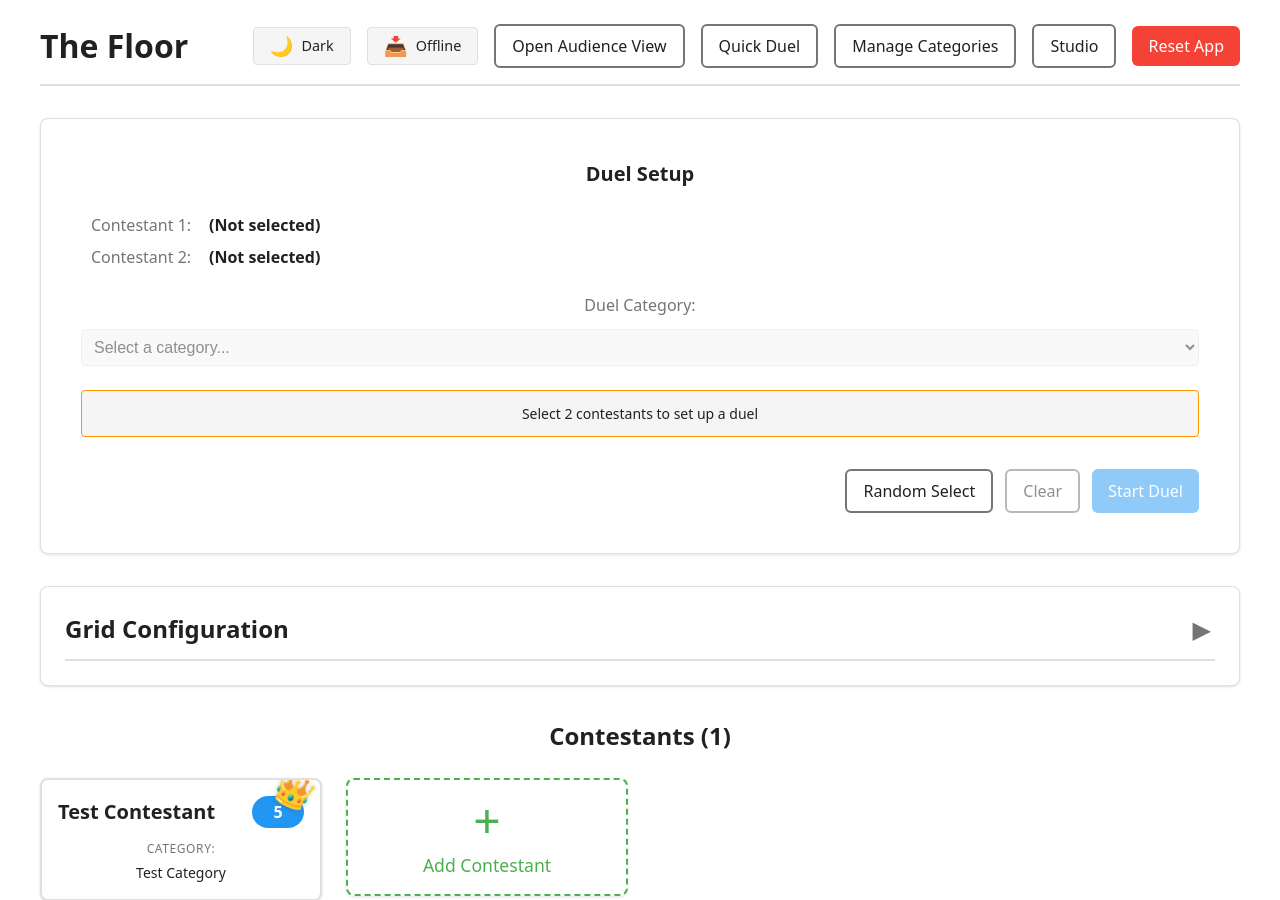
it: Dashboard › opens the Quick Duel setup modal when Quick Duel button clicked
The width and height of the screenshot is (1280, 900).
Click the button "Quick Duel".
click(759, 46)  # box x1=700 y1=24 x2=818 y2=68
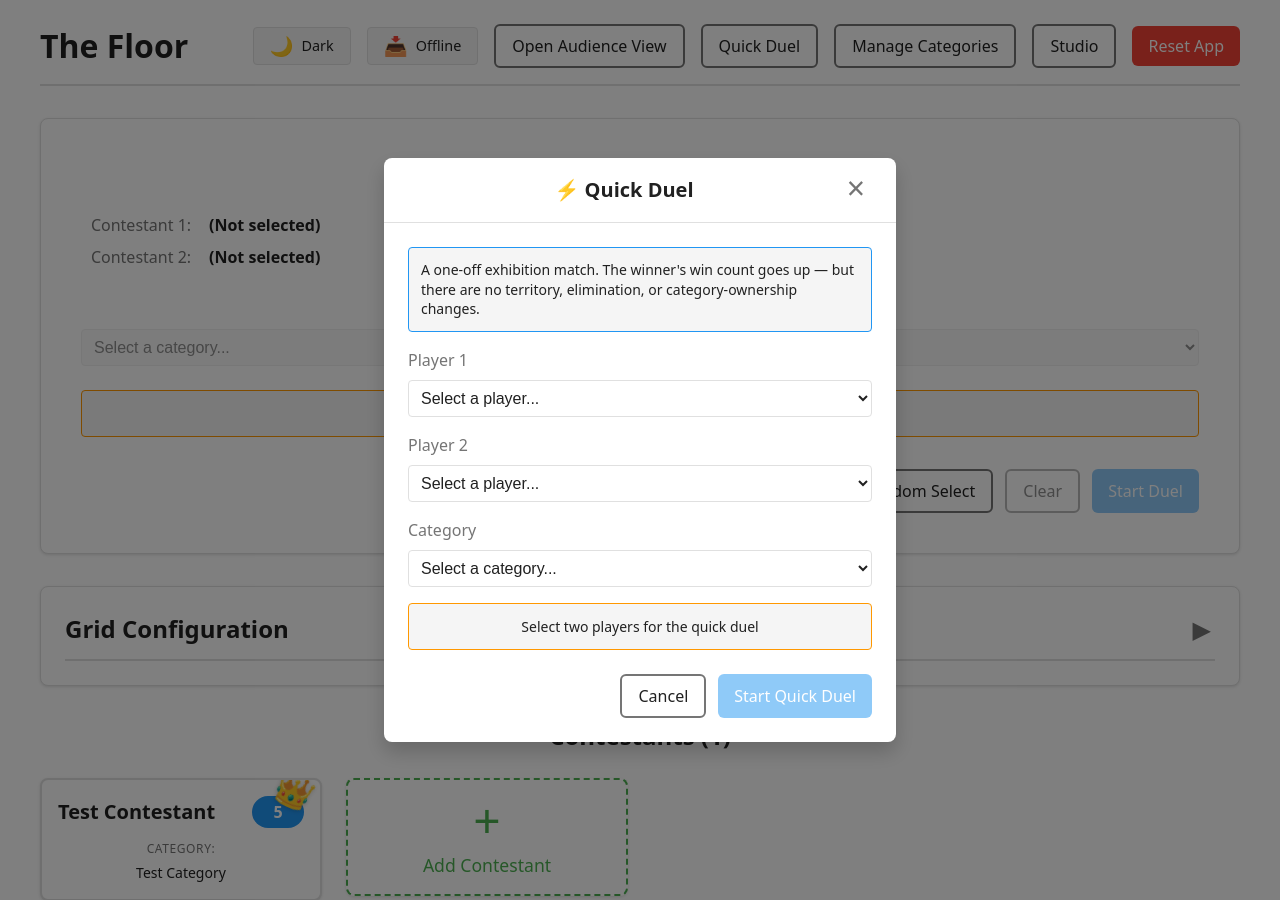
Expected: the dialog "Quick Duel" is shown, x1=384 y1=158 x2=896 y2=742
Expected: the button "Start Quick Duel" is shown, x1=718 y1=674 x2=872 y2=718
